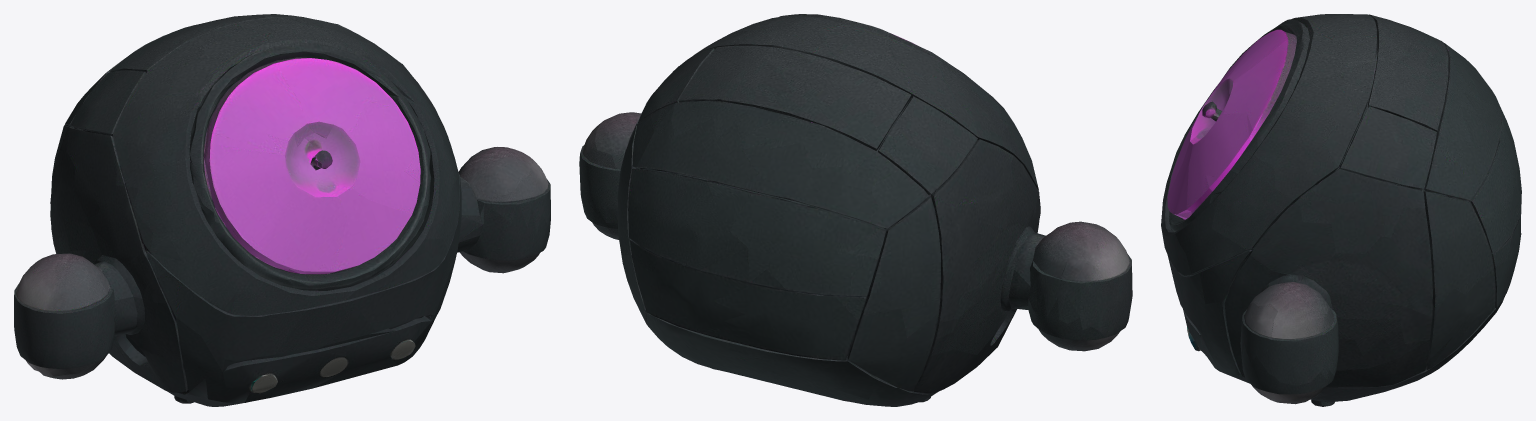
File: neon-drone.glb
The picture shows the model from 3 angles, left to right: view 1: azimuth 30°, elevation 25°; view 2: azimuth 150°, elevation 25°; view 3: azimuth 270°, elevation 25°; orthographic projection. The views are drawn at different scales.
Visible parts, largest first — view 1: mesh_node; view 2: mesh_node; view 3: mesh_node.
Boxes of the visible parts, x1,y1,x2,y2 form: mesh_node: (14,14,550,406); mesh_node: (579,14,1132,406); mesh_node: (1161,14,1521,406).
Bounding box in the file's own units: 1.9 × 1.19 × 1.17.
1 material, 1 textured.
